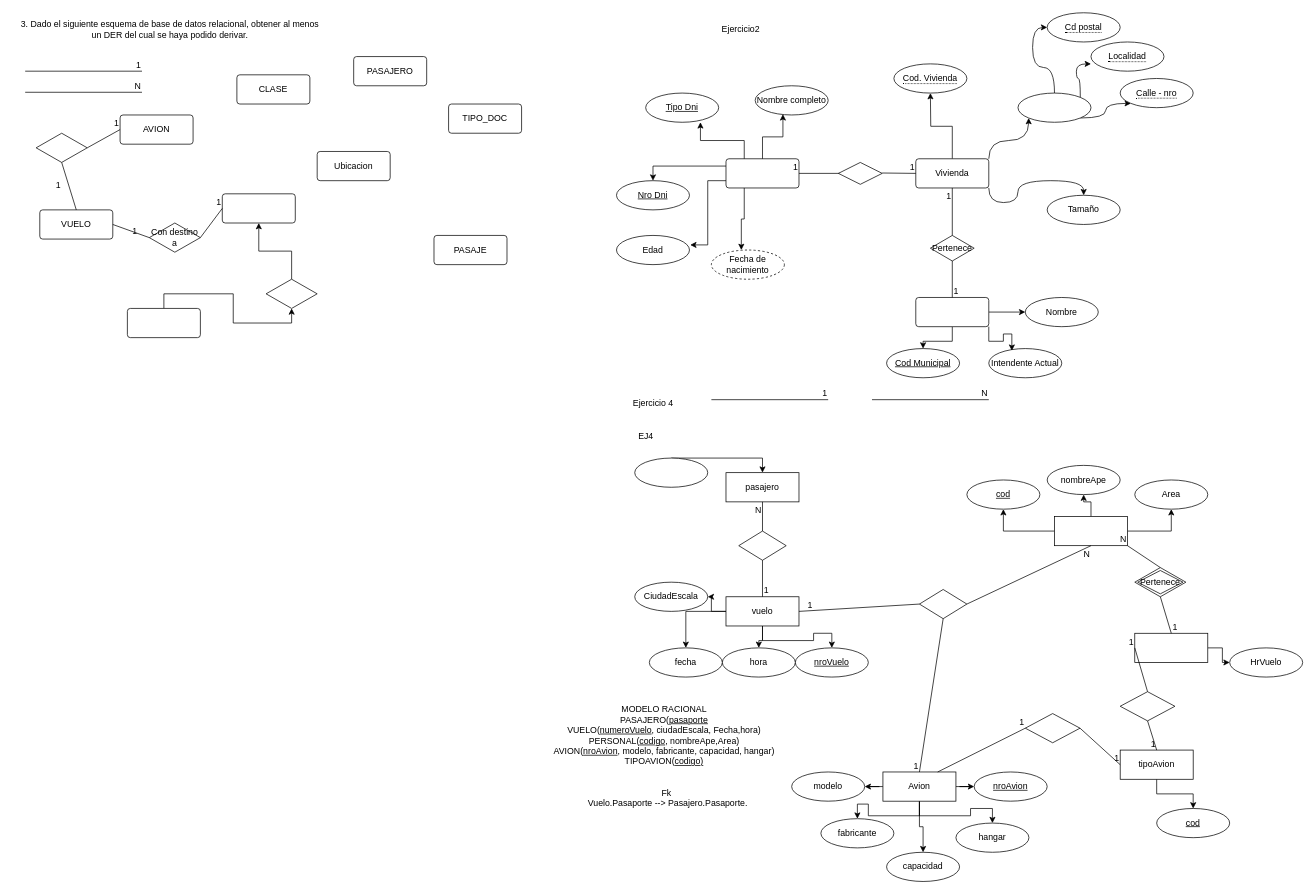
This 1315x894 diagram has some shape labels left out. The centre of each missing label's shape, as x and y in pixels:
"AEROPUERTO" belongs at point 258,208.
"Alquila" belongs at point 860,173.
"Asignado a" belongs at point 943,604.
"COMPRA" belongs at point 762,545.
"Destinado a" belongs at point 61,147.
"Direccion" belongs at point 1054,107.
"es de" belongs at point 1052,728.
"Habitante" belongs at point 762,173.
"Municipio" belongs at point 952,312.
"pasaporte" belongs at point 671,472.
"personal" belongs at point 1090,531.
"Pilotea" belongs at point 1147,706.
"piloto" belongs at point 1171,647.
"TARIFA" belongs at point 163,323.
